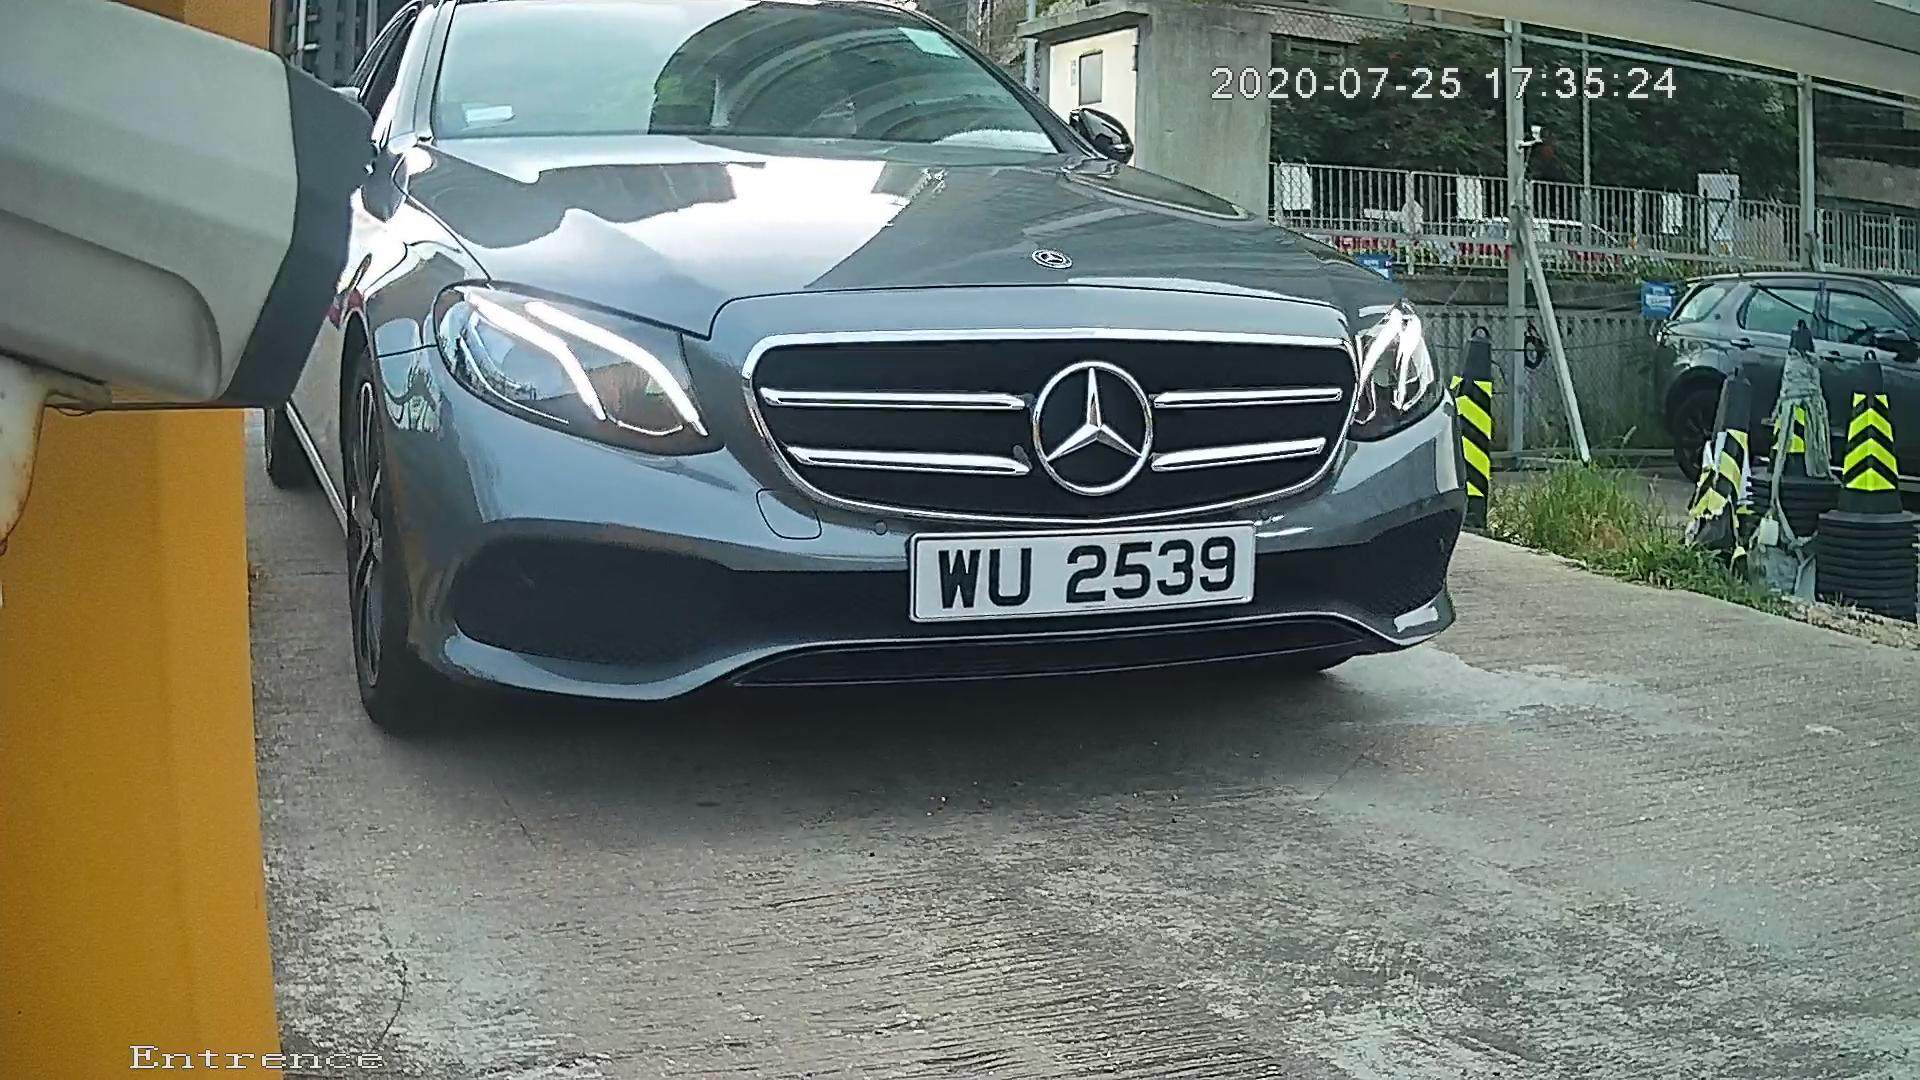Car: (138, 1, 1603, 762)
License Plate: (875, 516, 1286, 627)
